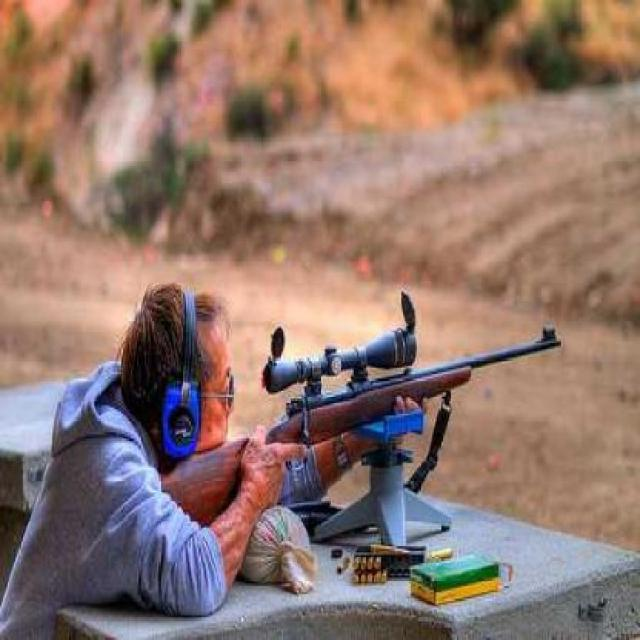weapon: (128, 317, 566, 534)
